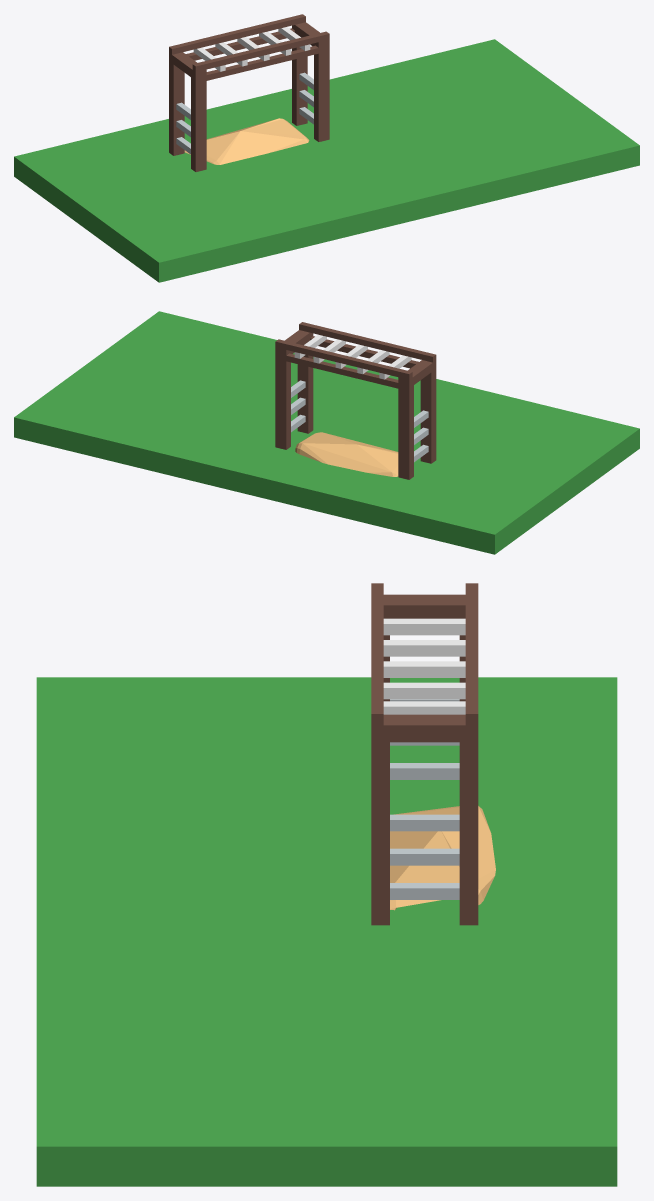
3 views of the same model, one above another, from view 1: azimuth 30°, elevation 25°; view 2: azimuth 150°, elevation 25°; view 3: azimuth 270°, elevation 25° (orthographic). The views are drawn at different scales.
Visible parts, largest first — view 1: mesh_1085007388, mesh_614599806, mesh_847582275, mesh_1166002816, mesh_1261737577, mesh_1062147976, mesh_607695484, mesh_1906826439, mesh_1392386255, mesh_175059918, mesh_1264021253, mesh_124177149; view 2: mesh_1085007388, mesh_614599806, mesh_1062147976, mesh_1906826439, mesh_1261737577, mesh_847582275, mesh_175059918, mesh_124177149, mesh_1166002816, mesh_1264021253, mesh_607695484, mesh_1566712453; view 3: mesh_1085007388, mesh_614599806, mesh_1906826439, mesh_1166002816, mesh_1566712453, mesh_1264021253, mesh_1261737577, mesh_175059918, mesh_442879063, mesh_390294633, mesh_1017993780, mesh_1316997087 (+5 smaller).
Boxes of the visible parts, x1,y1,x2,y2 form: mesh_1085007388: (14,39,639,282); mesh_614599806: (184,118,309,164); mesh_847582275: (191,77,206,171); mesh_1166002816: (314,51,329,141); mesh_1261737577: (169,14,305,54); mesh_1062147976: (169,61,184,155); mesh_607695484: (201,45,329,81); mesh_1906826439: (292,47,307,125); mesh_1392386255: (192,34,329,71); mesh_175059918: (193,31,329,71); mesh_1264021253: (169,52,206,80); mesh_124177149: (169,28,294,62); mesh_1085007388: (14,311,639,554); mesh_614599806: (295,432,398,476); mesh_1062147976: (398,385,413,479); mesh_1906826439: (275,356,290,449); mesh_1261737577: (275,339,412,379); mesh_847582275: (420,369,436,463); mesh_175059918: (299,322,435,362); mesh_124177149: (286,353,412,390); mesh_1166002816: (297,355,313,433); mesh_1264021253: (398,360,436,388); mesh_607695484: (310,336,418,368); mesh_1566712453: (275,330,313,358); mesh_1085007388: (36,677,617,1186); mesh_614599806: (390,806,495,910); mesh_1906826439: (459,742,478,925); mesh_1166002816: (371,742,389,925); mesh_1566712453: (371,714,478,742); mesh_1264021253: (383,594,465,618); mesh_1261737577: (465,583,478,725); mesh_175059918: (371,583,383,725); mesh_442879063: (383,618,465,635); mesh_390294633: (383,682,465,699); mesh_1017993780: (383,640,465,656); mesh_1316997087: (383,661,465,677).
Bounding box in the file's own units: 176 × 44 × 92.
